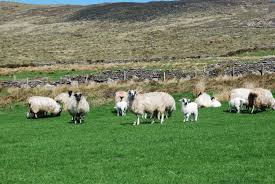sheep: (127, 89, 175, 125), (25, 95, 64, 127), (245, 84, 274, 115), (51, 86, 75, 117), (71, 93, 91, 129), (107, 87, 130, 118), (222, 86, 247, 113), (194, 86, 220, 111), (178, 96, 200, 125)
